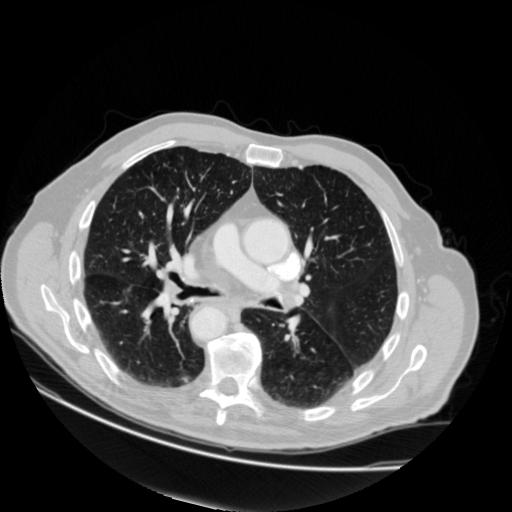nodule: (182, 373, 195, 386)
